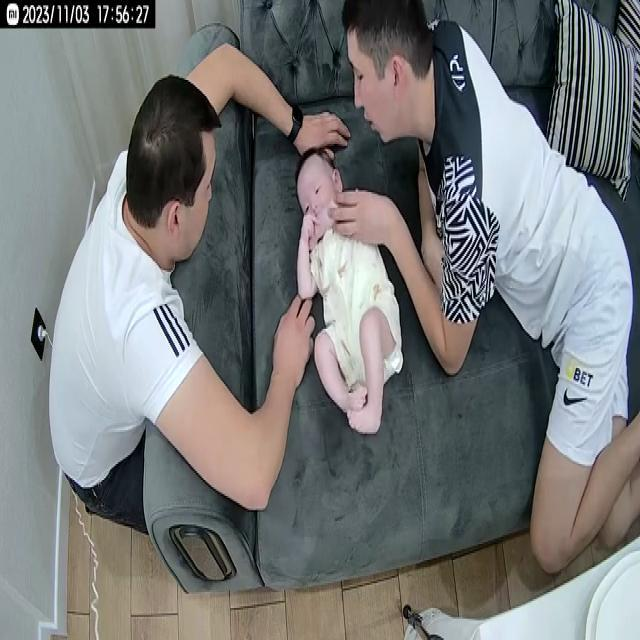baby: (292, 142, 404, 442)
